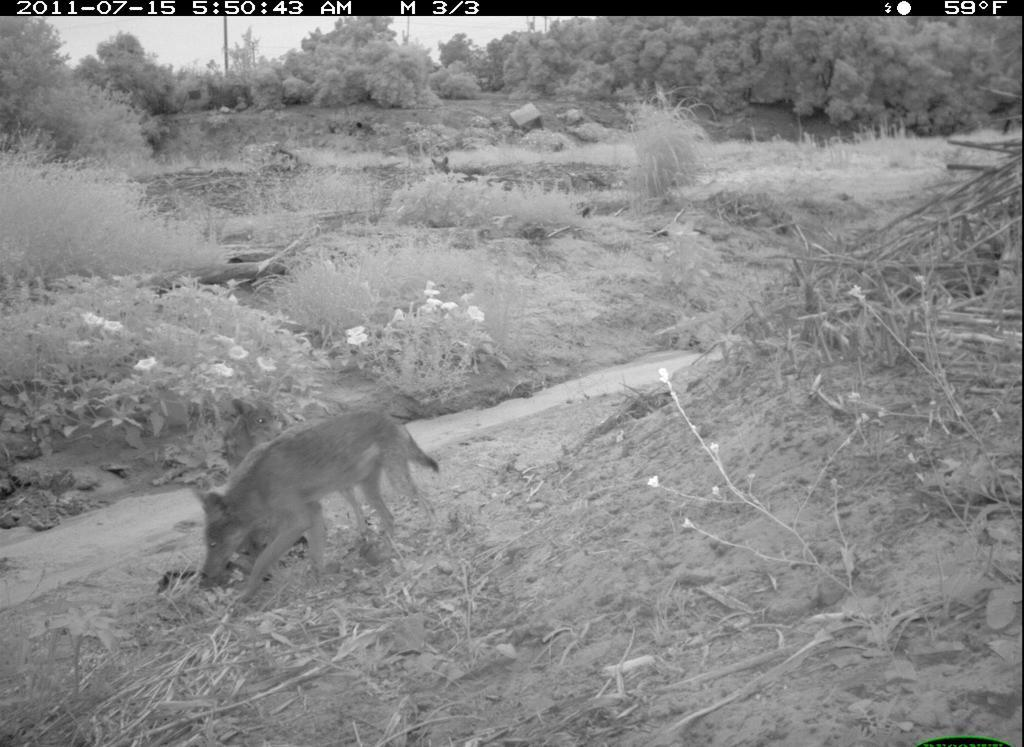coyote: (197, 402, 449, 608), (215, 395, 301, 483), (429, 157, 492, 187)
